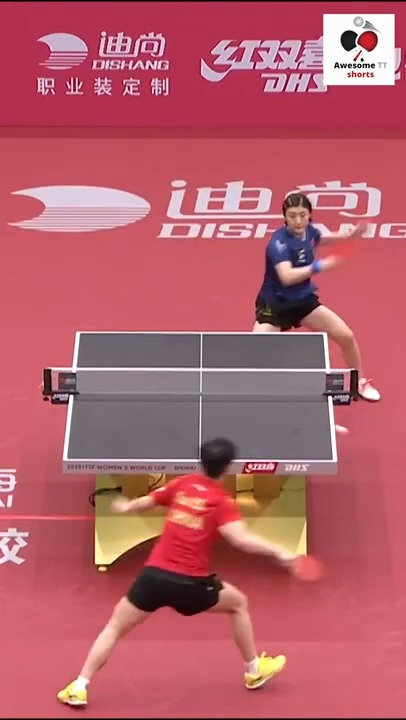Ball: (336, 424, 348, 439)
